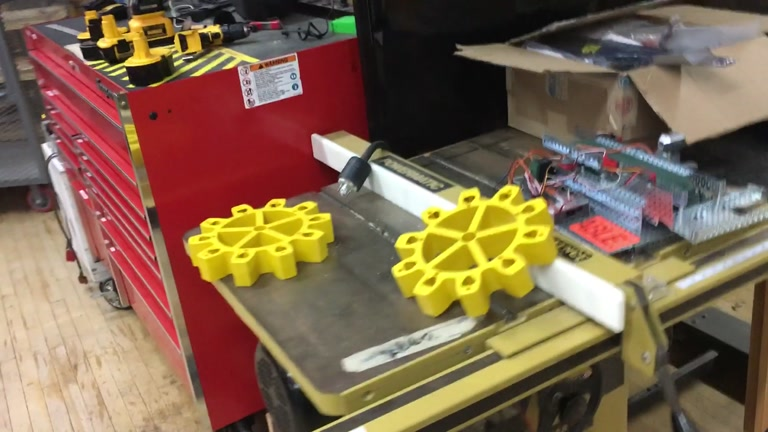gear: (389, 183, 556, 320), (186, 196, 335, 288)
